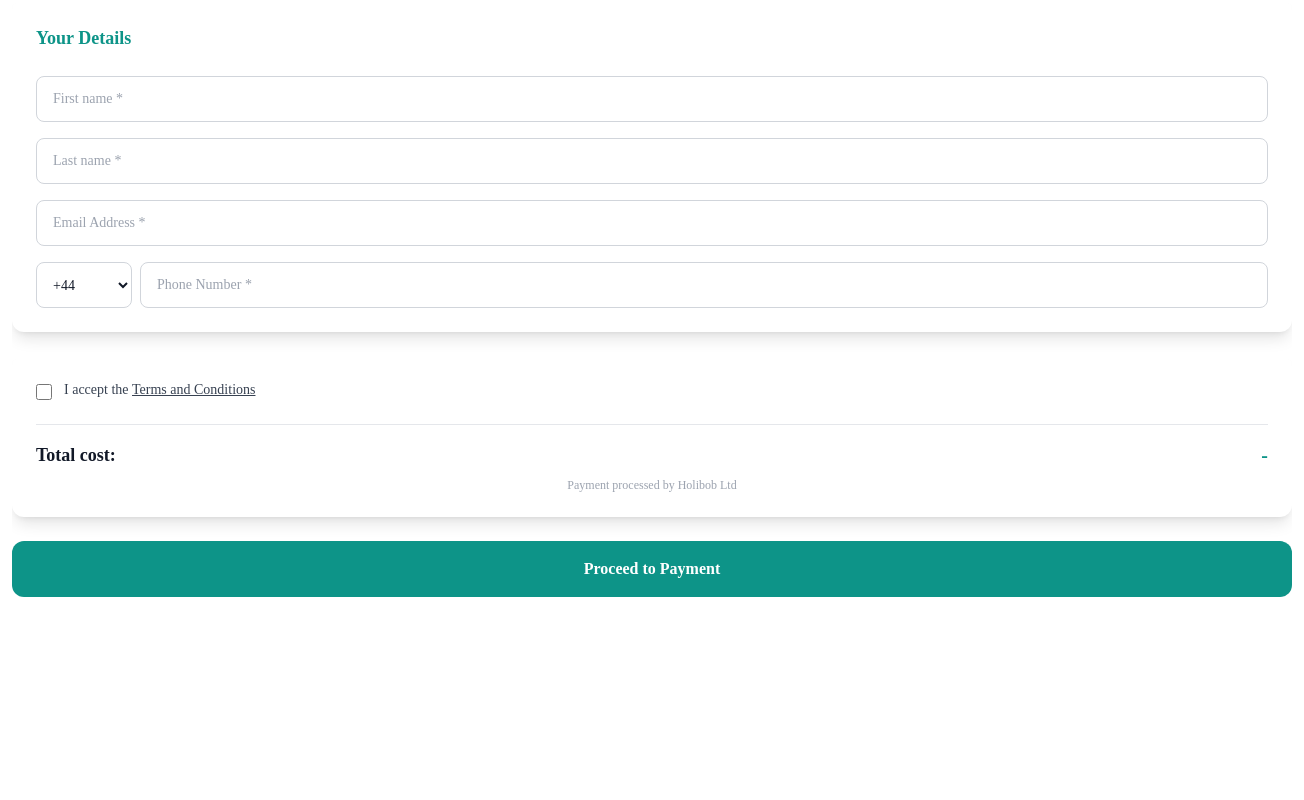
QuestionsForm › validates required lead person fields on submit
Click the button with test id "submit-questions" at (652, 569), box left=12, top=541, right=1292, bottom=597
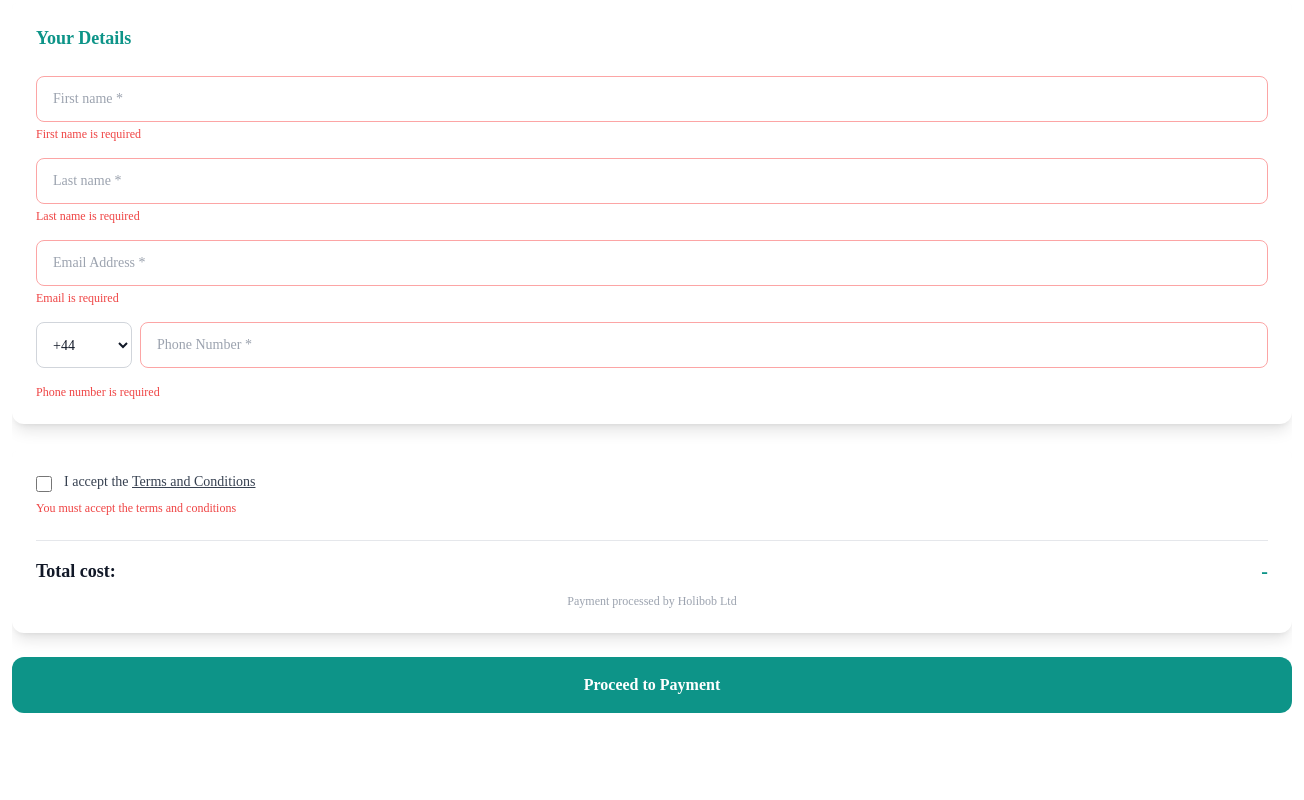
Expected: the text "First name is required" is shown, left=36, top=127, right=141, bottom=141
Expected: the text "Last name is required" is shown, left=36, top=209, right=140, bottom=223
Expected: the text "Email is required" is shown, left=36, top=291, right=119, bottom=305
